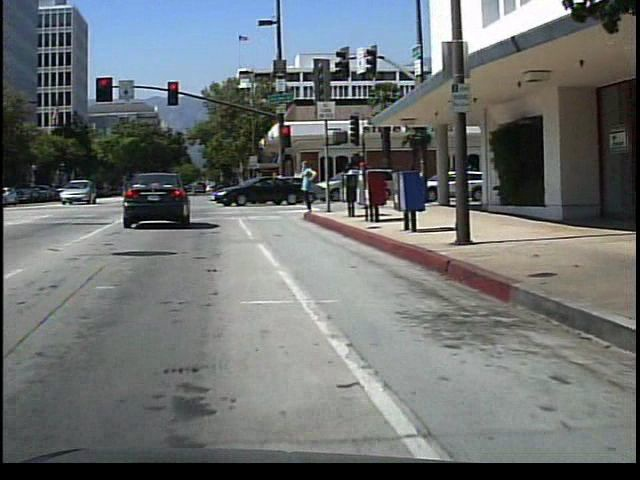person: (298, 152, 324, 216), (359, 154, 378, 208), (346, 156, 365, 207)
